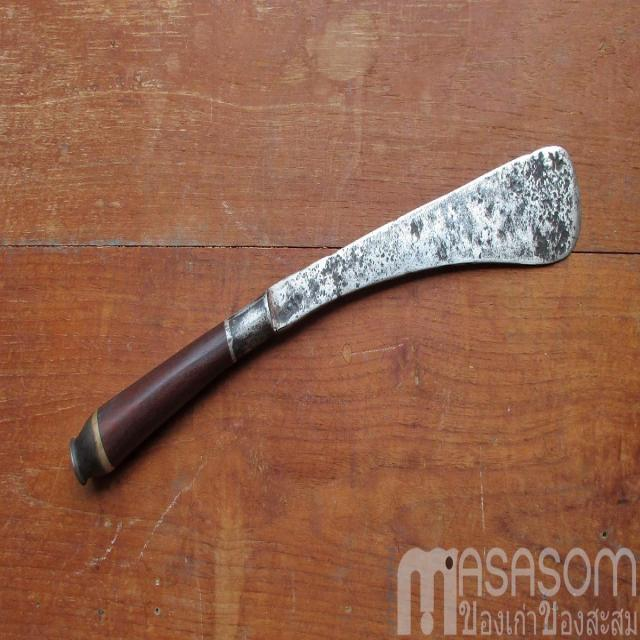eto: (61, 136, 585, 499)
